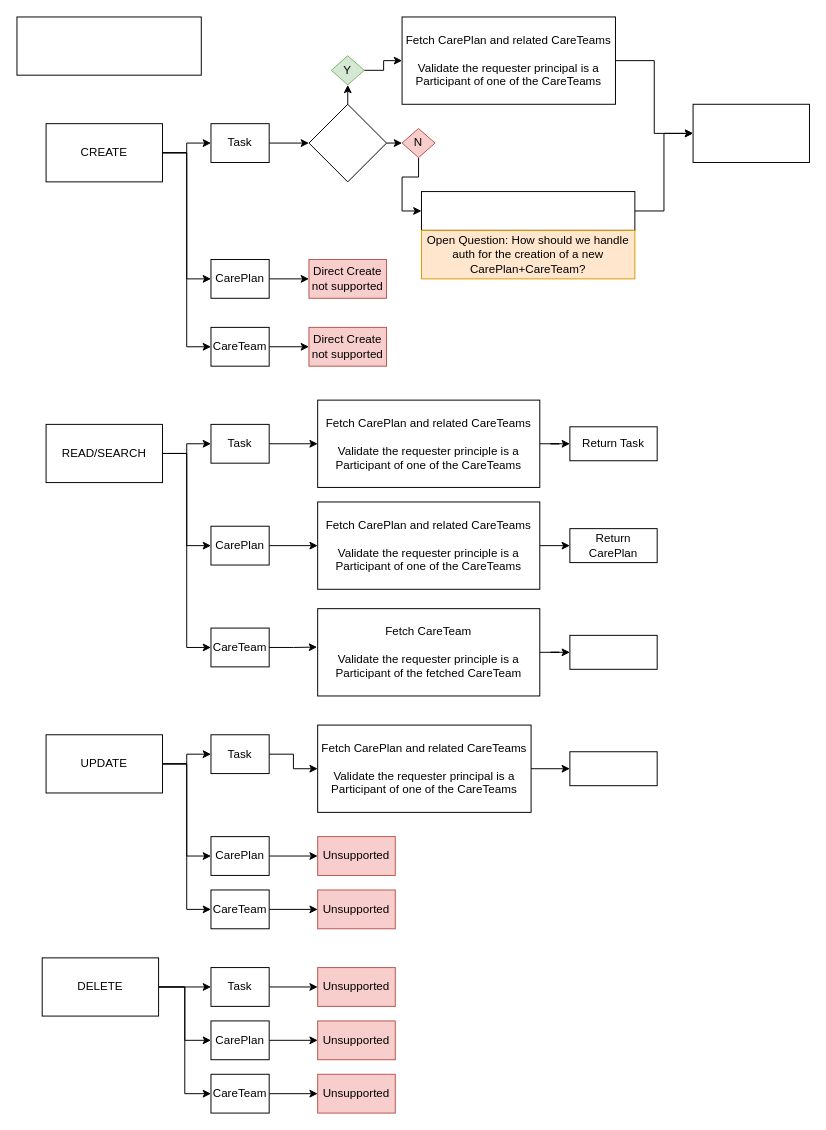
This 826x1130 diagram has some shape labels left out. The centre of each missing label's shape, as x and y in pixels:
"CarePlan exists?" goes at (x=347, y=142).
"CarePlanService CRUD Authorization flow diagram" goes at (x=108, y=45).
"Create a new CarePlan and CareTeam" goes at (x=527, y=210).
"Create Task and add it to the CarePlan" goes at (x=750, y=132).
"Return CareTeam" goes at (x=613, y=651).
"Update Task" goes at (x=613, y=768).
